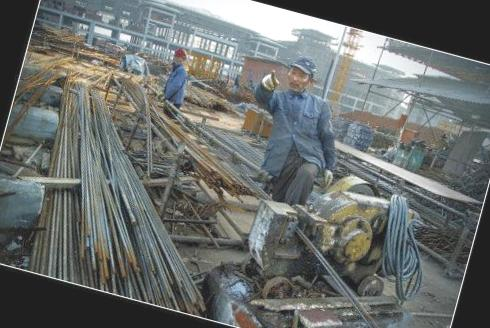no_helmet: (280, 47, 326, 96)
